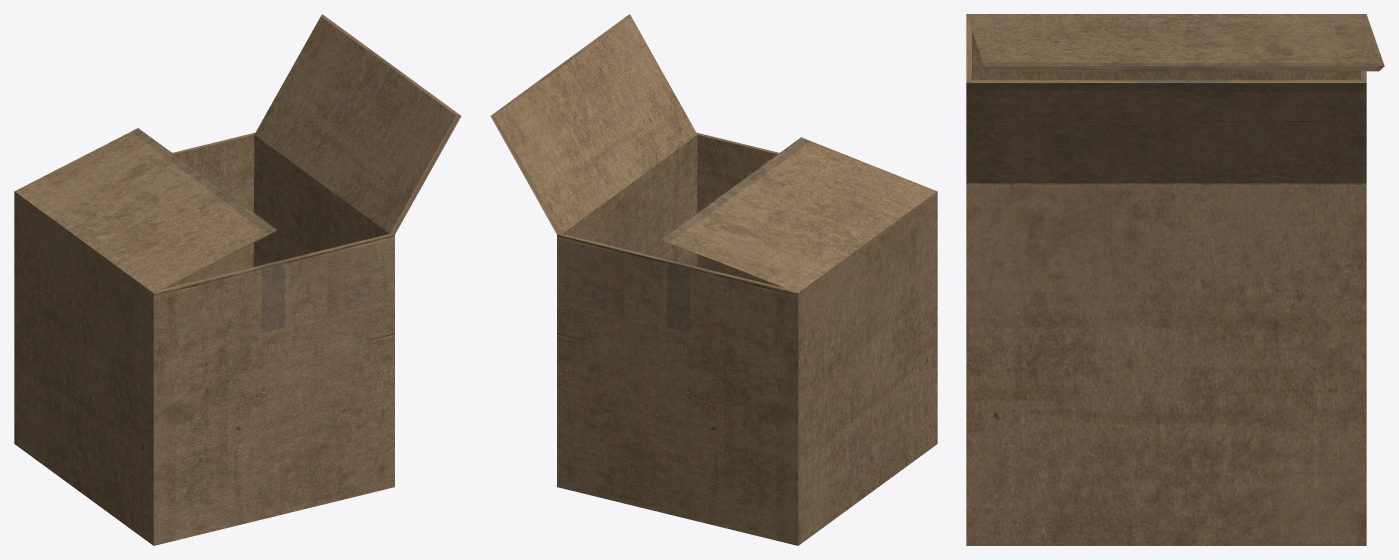
File: Prop_Box_01.fbx
The picture shows the model from 3 angles, left to right: view 1: azimuth 30°, elevation 25°; view 2: azimuth 150°, elevation 25°; view 3: azimuth 270°, elevation 25°; orthographic projection. The views are drawn at different scales.
Parts seen in each view (by area): view 1: Cube_025; view 2: Cube_025; view 3: Cube_025.
Part boxes in pixels (x1,y1,x2,y2): Cube_025: [14, 14, 461, 545]; Cube_025: [490, 14, 937, 545]; Cube_025: [966, 14, 1384, 545].
Bounding box in the file's own units: 2.55 × 2.81 × 2.09.
